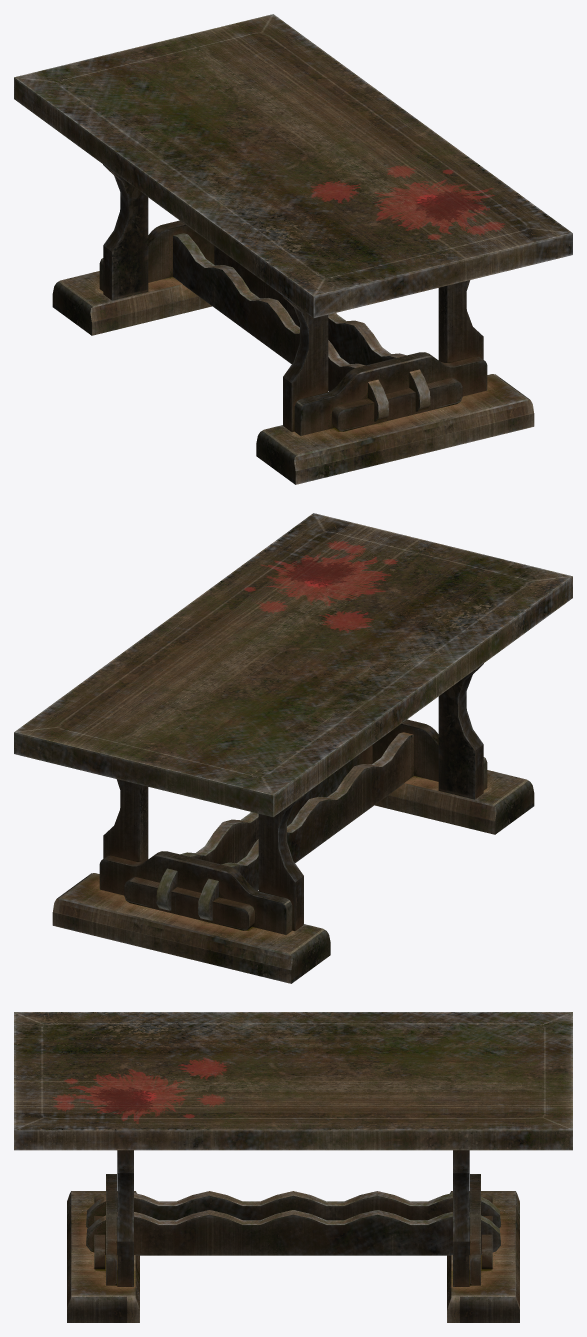
The model's file is Wooden_table_3d_low_poly.glb.
3 renders of one model, top to bottom at view 1: azimuth 30°, elevation 25°; view 2: azimuth 150°, elevation 25°; view 3: azimuth 270°, elevation 25°, orthographic. The views are drawn at different scales.
Parts seen in each view (by area): view 1: Wooden table_Wooden table_0; view 2: Wooden table_Wooden table_0; view 3: Wooden table_Wooden table_0.
Part boxes in pixels (left/top/right/bottom): Wooden table_Wooden table_0: left=14, top=14, right=572, bottom=484; Wooden table_Wooden table_0: left=14, top=513, right=572, bottom=983; Wooden table_Wooden table_0: left=14, top=1012, right=572, bottom=1322.
Size of the model in its own units: 0.0972 by 0.0758 by 0.1945.
1 material, 1 textured.
